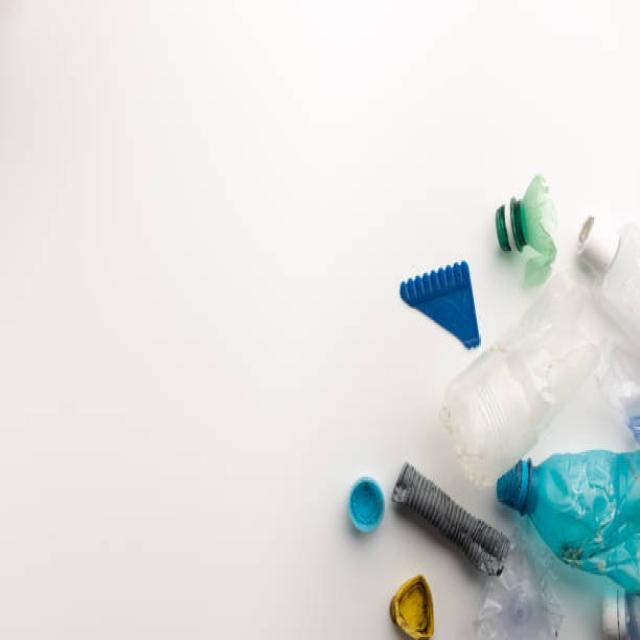plastic: (403, 250, 623, 610)
